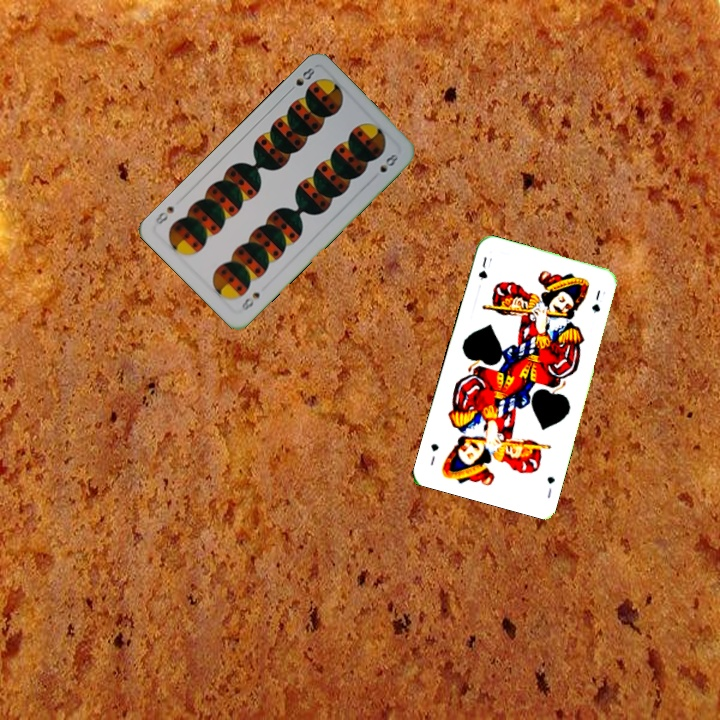GU: (474, 253, 490, 283), (543, 472, 557, 501)
S8: (284, 63, 318, 96), (237, 288, 263, 313)
